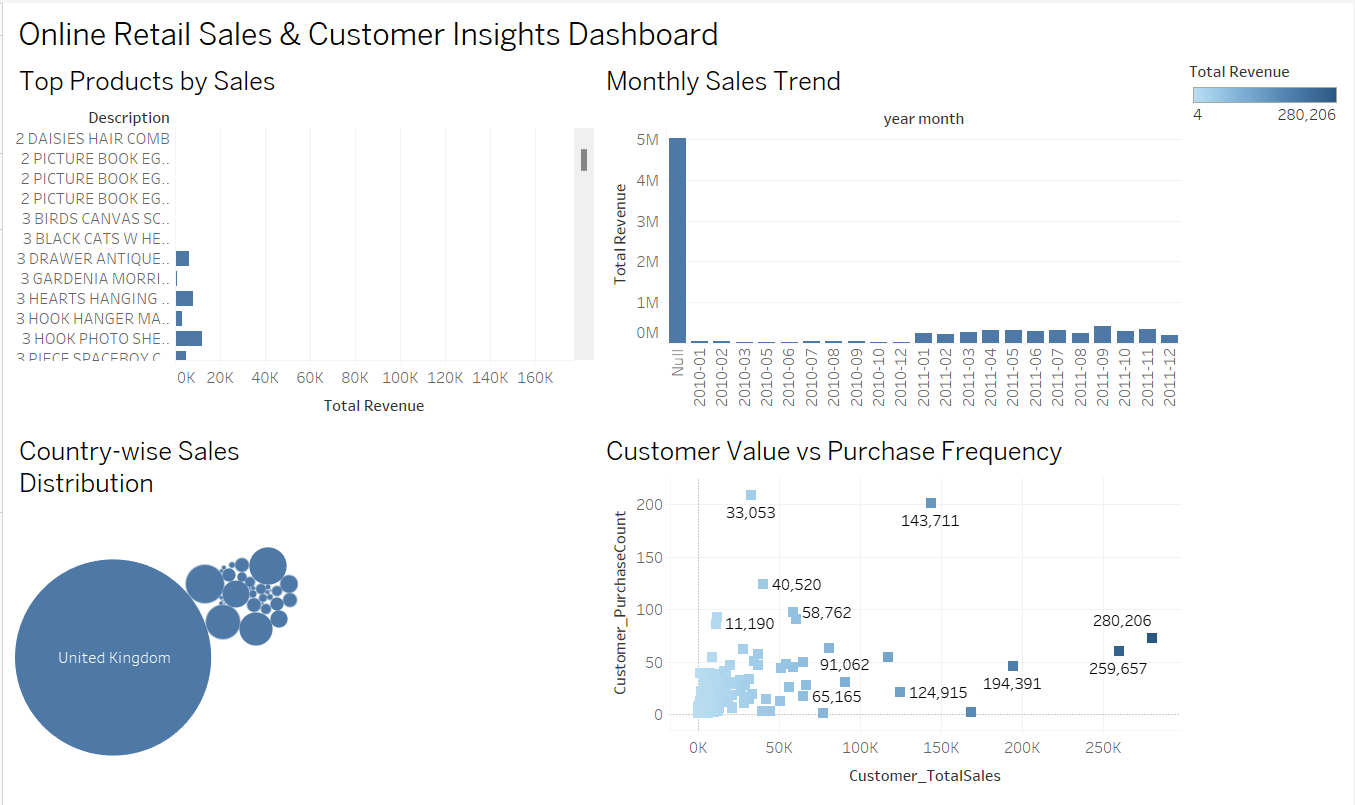

The page's visual inventory and layout, read from the dashboard file:
{"tool":"tableau","page":{"name":"Dashboard 1","canvas":[1000,1000],"units":"permille","ordinal":0},"visuals":[{"type":"title","box":[5.9,10,988.1,57.4]},{"type":"worksheet","title":"Sheet 2","mark":"Automatic","rows":["Description"],"cols":["TotalRevenue"],"box":[5.9,67.3,434.8,461.3]},{"type":"worksheet","title":"Sheet 1","mark":"Automatic","rows":["TotalRevenue"],"cols":["Calculation_4024529240651034625"],"box":[440.7,67.3,434.8,461.3]},{"type":"legend","title":"Sheet 4","param":"[federated.1kg6x98083fuu31g1bfwn1nhhneg].[sum:TotalRevenue:qk]","box":[875.6,67.3,118.5,91]},{"type":"worksheet","title":"Sheet 3","mark":"Circle","box":[5.9,528.7,434.8,461.4]},{"type":"worksheet","title":"Sheet 4","mark":"Square","rows":["Calculation_4024529240653959171"],"cols":["Calculation_4024529240653815810"],"box":[440.7,528.7,434.8,461.4]}]}

Visuals, with their boxes on the dashboard's canvas, which has no fixed pixel size, in thousandths of its width and height (x1, y1, x2, y2). These are canvas units, not pixel positions in the 1355x805 screenshot, which may show the page scaled, cropped or inside an application window:
title: Rect(6, 10, 994, 67)
"Sheet 2" worksheet: Rect(6, 67, 441, 529)
"Sheet 1" worksheet: Rect(441, 67, 876, 529)
"Sheet 4" legend: Rect(876, 67, 994, 158)
"Sheet 3" worksheet (Circle marks): Rect(6, 529, 441, 990)
"Sheet 4" worksheet (Square marks): Rect(441, 529, 876, 990)
